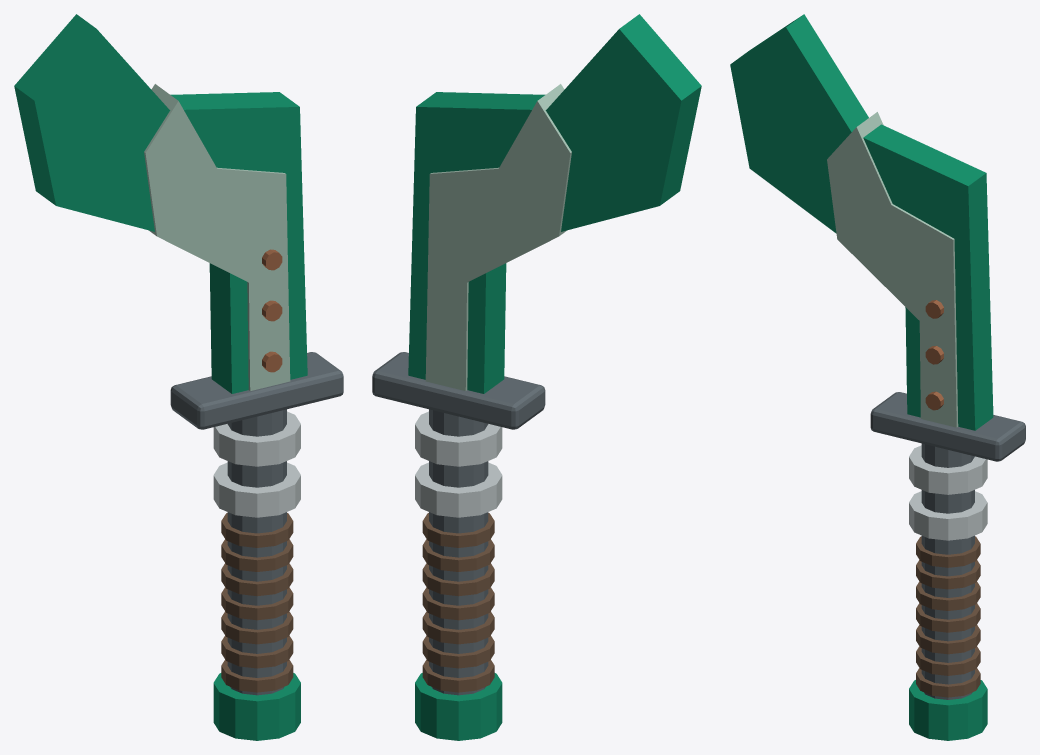
Rendered from RiftCleaver.fbx.
3 renders of one model, left to right at view 1: azimuth 30°, elevation 25°; view 2: azimuth 150°, elevation 25°; view 3: azimuth 330°, elevation 25°, orthographic. The views are drawn at different scales.
Visible parts, largest first — view 1: Silhouette.010, Noyau.010, Manche.010, Garde.010, Pommeau.010, Collier.020, Collier.021, Bande_06.010, Bande_02.010, Bande_00.010, Bande_03.010, Bande_01.010 (+2 smaller); view 2: Silhouette.010, Noyau.010, Manche.010, Garde.010, Pommeau.010, Collier.020, Collier.021, Bande_06.010, Bande_02.010, Bande_00.010, Bande_03.010, Bande_01.010 (+2 smaller); view 3: Silhouette.010, Noyau.010, Manche.010, Garde.010, Pommeau.010, Collier.020, Collier.021, Bande_06.010, Bande_03.010, Bande_01.010, Bande_04.010, Bande_00.010 (+2 smaller).
Boxes of the visible parts, x1,y1,x2,y2 form: Silhouette.010: (14, 14, 307, 393); Noyau.010: (144, 84, 290, 391); Manche.010: (227, 409, 286, 695); Garde.010: (170, 352, 343, 429); Pommeau.010: (213, 673, 300, 740); Collier.020: (213, 462, 300, 517); Collier.021: (213, 411, 300, 466); Bande_06.010: (221, 513, 293, 547); Bande_02.010: (221, 611, 293, 644); Bande_00.010: (221, 659, 293, 692); Bande_03.010: (221, 587, 293, 620); Bande_01.010: (221, 635, 293, 668); Silhouette.010: (408, 14, 701, 393); Noyau.010: (425, 84, 571, 391); Manche.010: (429, 409, 488, 695); Garde.010: (372, 352, 545, 429); Pommeau.010: (415, 673, 502, 740); Collier.020: (415, 462, 502, 517); Collier.021: (415, 411, 502, 466); Bande_06.010: (422, 513, 494, 547); Bande_02.010: (422, 611, 494, 644); Bande_00.010: (422, 659, 494, 692); Bande_03.010: (422, 587, 494, 620); Bande_01.010: (422, 635, 494, 668); Silhouette.010: (730, 14, 993, 430); Noyau.010: (827, 112, 958, 427); Manche.010: (921, 443, 974, 699); Garde.010: (870, 392, 1025, 461); Pommeau.010: (909, 680, 987, 740); Collier.020: (909, 491, 987, 540); Collier.021: (909, 445, 987, 494); Bande_06.010: (916, 536, 980, 567); Bande_03.010: (916, 603, 980, 632); Bande_01.010: (916, 646, 980, 675); Bande_04.010: (916, 581, 980, 610); Bande_00.010: (916, 668, 980, 697).
Size of the model in its own units: 113 by 262 by 28.
